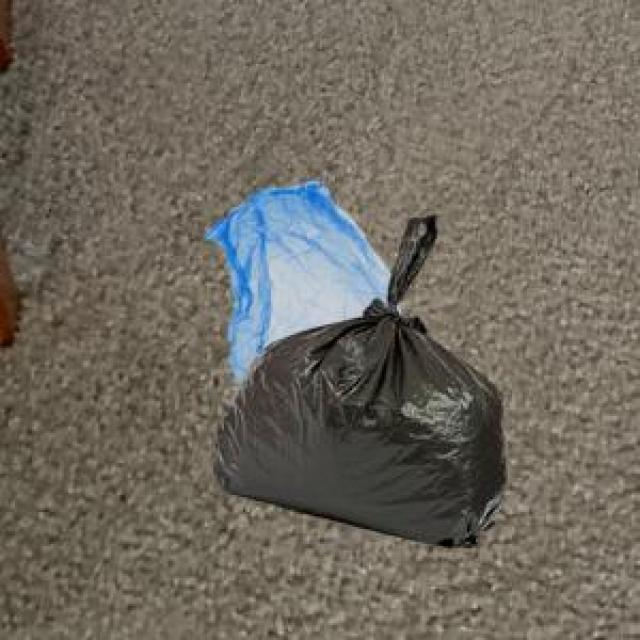miscellaneous trash: (209, 211, 501, 544)
